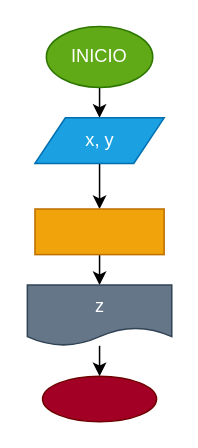
This 198x448 diagram has some shape labels left out. The shapes that lost their labels are listed below. From the top down, each one's centre as x and y in pixels, then its label:
point (98, 231): z = x + y
point (99, 398): FIN
